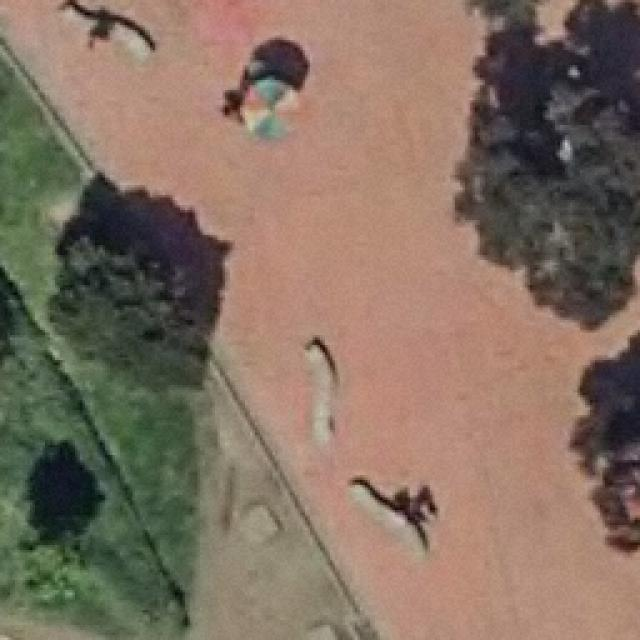vendedor_ambulante: (238, 72, 306, 146)
